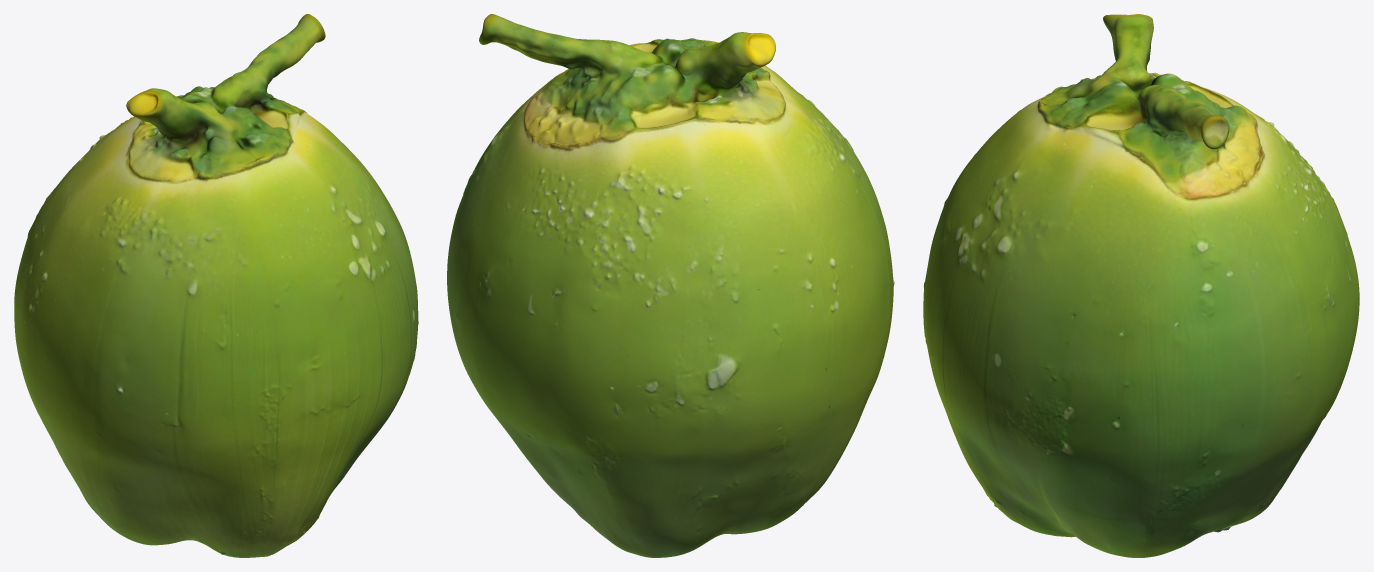
File: coconut.glb
The picture shows the model from 3 angles, left to right: view 1: azimuth 30°, elevation 25°; view 2: azimuth 150°, elevation 25°; view 3: azimuth 270°, elevation 25°; orthographic projection. The views are drawn at different scales.
Bounding box in the file's own units: 1.64 × 2 × 1.64.
1 material, 1 textured.
